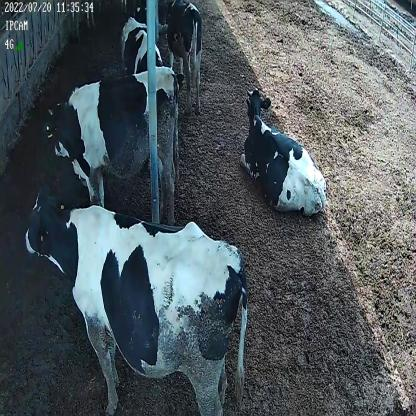cow: (26, 176, 249, 413), (43, 65, 181, 223), (240, 86, 328, 219), (166, 0, 204, 112)
